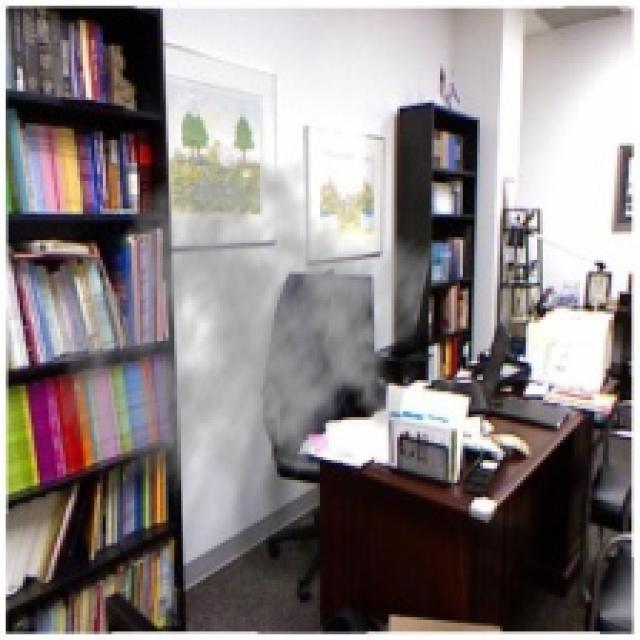smoke: (54, 140, 434, 534)
